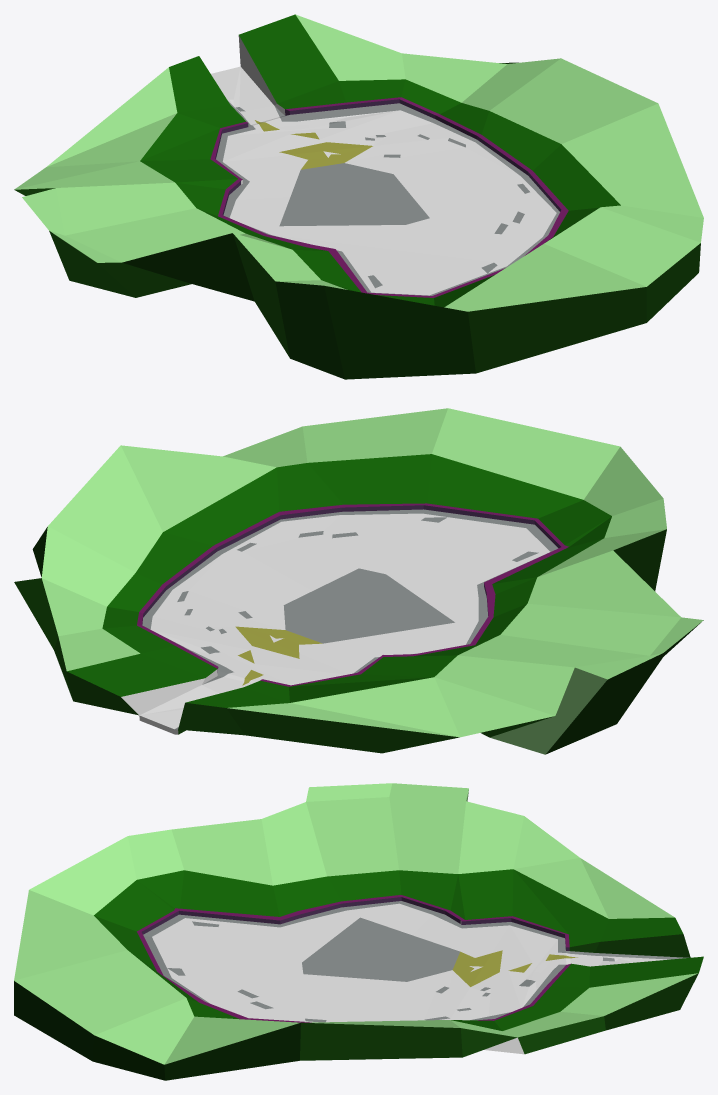
File: terrain.fbx
3 renders of one model, top to bottom at view 1: azimuth 30°, elevation 25°; view 2: azimuth 150°, elevation 25°; view 3: azimuth 270°, elevation 25°, orthographic. The views are drawn at different scales.
Visible parts, largest first — view 1: Cube; view 2: Cube; view 3: Cube.
Part boxes in pixels (x1,y1,x2,y2): Cube: (14,14,703,379); Cube: (14,408,703,754); Cube: (14,783,703,1080).
Bounding box in the file's own units: 12408 × 2462 × 13736.
